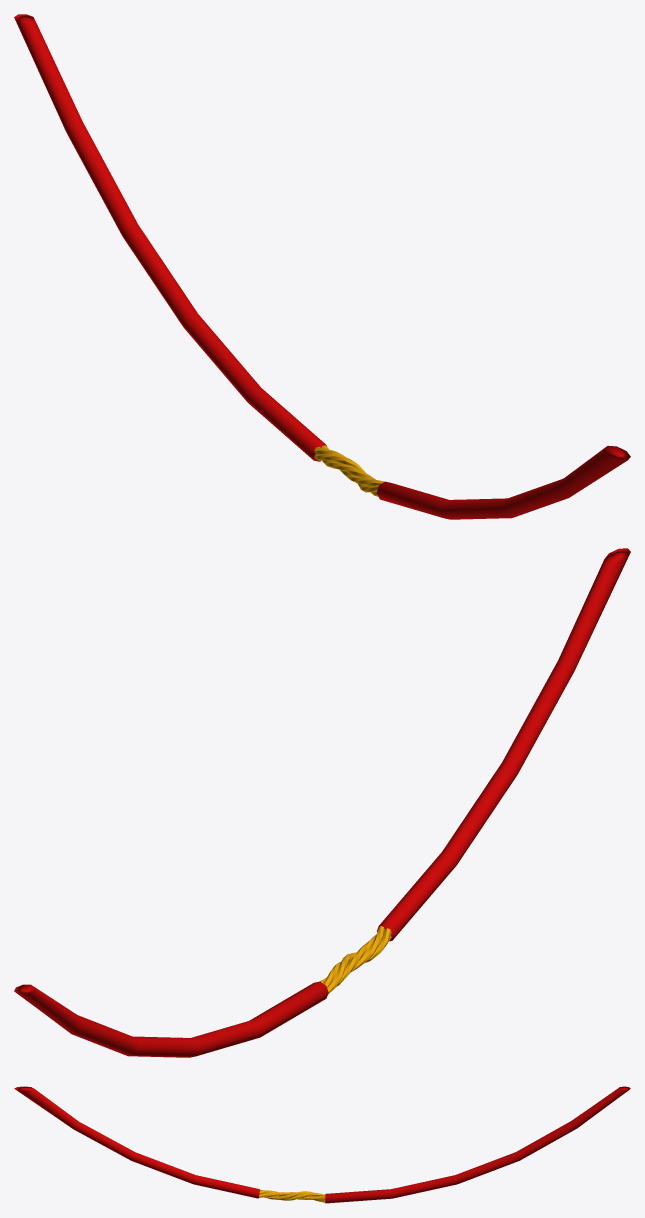
The model's file is Red_cable.fbx.
3 views of the same model, one above another, from view 1: azimuth 30°, elevation 25°; view 2: azimuth 150°, elevation 25°; view 3: azimuth 270°, elevation 25° (orthographic). The views are drawn at different scales.
Visible parts, largest first — view 1: Rope; view 2: Rope; view 3: Rope.
Part boxes in pixels (x1,y1,x2,y2): Rope: (14,14,630,519); Rope: (14,548,630,1057); Rope: (14,1086,630,1203).
Bounding box in the file's own units: 0.6079 × 7.25 × 35.35.
